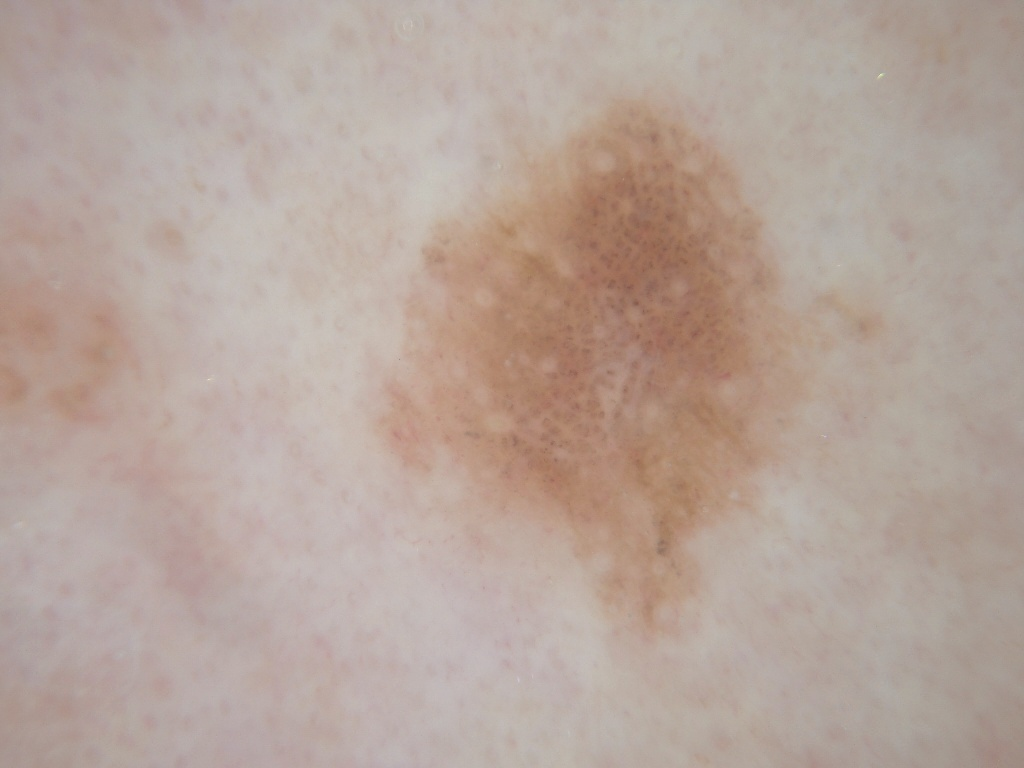Detected Lesion: (372, 101, 892, 642)
